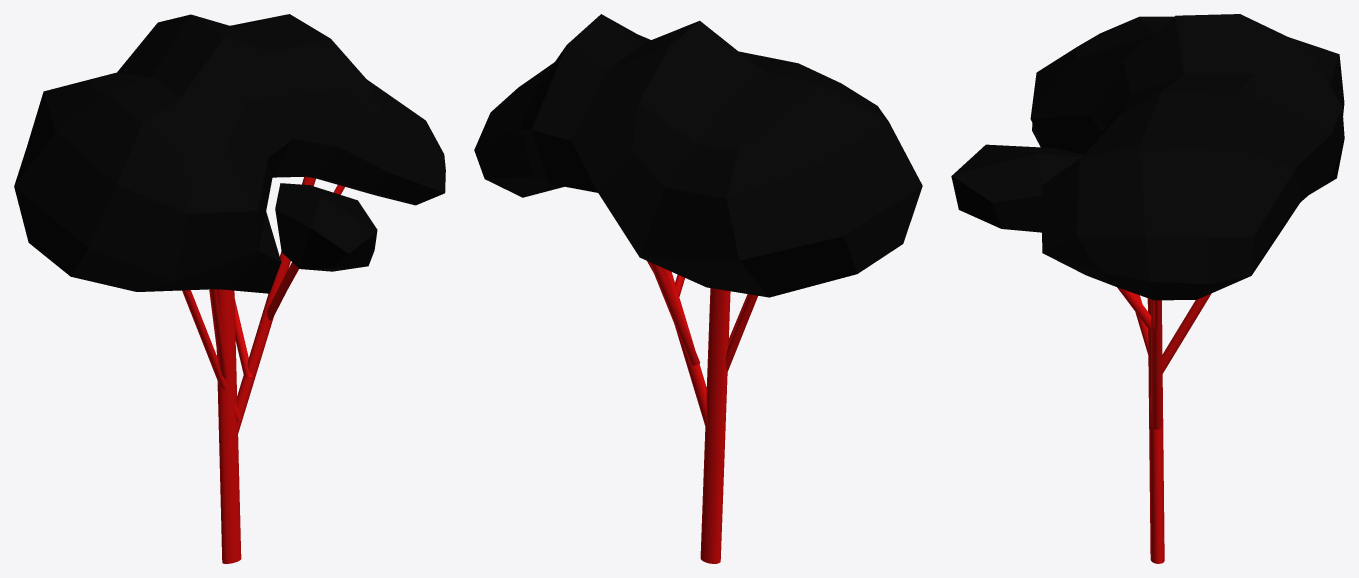
The model's file is tree.glb.
3 views of the same model, side by side, from view 1: azimuth 30°, elevation 25°; view 2: azimuth 150°, elevation 25°; view 3: azimuth 270°, elevation 25° (orthographic). The views are drawn at different scales.
Parts seen in each view (by area): view 1: foliage, trunk; view 2: foliage, trunk; view 3: foliage, trunk.
Boxes of the visible parts, box(x1,y1,x2,y2) form: foliage: box(14, 14, 445, 293); trunk: box(182, 176, 344, 563); foliage: box(474, 14, 922, 297); trunk: box(647, 261, 757, 563); foliage: box(951, 14, 1344, 300); trunk: box(1117, 287, 1211, 563).
Bounding box in the file's own units: 4.89 × 6.49 × 4.24.
